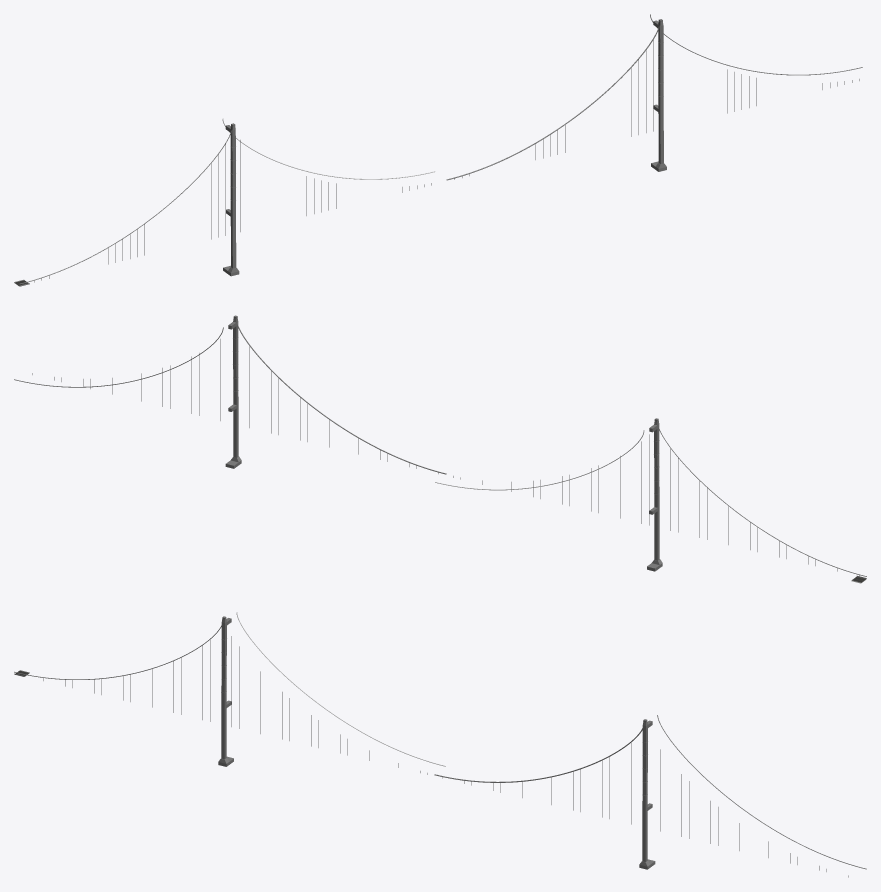
Rendered from bridge.glb.
3 views of the same model, one above another, from view 1: azimuth 30°, elevation 25°; view 2: azimuth 150°, elevation 25°; view 3: azimuth 330°, elevation 25° (orthographic).
Parts seen in each view (by area): view 1: Cube.003, Cube.000, Cylinder, Cylinder.001; view 2: Cube.000, Cube.003, Cylinder, Cylinder.001; view 3: Cube.003, Cube.000, Cylinder, Cylinder.001.
Boxes of the visible parts, x1,y1,x2,y2 form: Cube.003: (651,19,666,171); Cube.000: (223,123,239,276); Cylinder: (27,140,431,283); Cylinder.001: (454,40,859,179); Cube.000: (647,418,662,571); Cube.003: (225,315,241,468); Cylinder: (453,434,859,575); Cylinder.001: (32,339,438,473); Cube.003: (639,719,655,869); Cube.000: (218,616,233,766); Cylinder: (21,636,427,774); Cylinder.001: (442,743,848,877).
Size of the model in its own units: 38.54 by 6.45 by 1.07.
4 materials, 2 textured.
